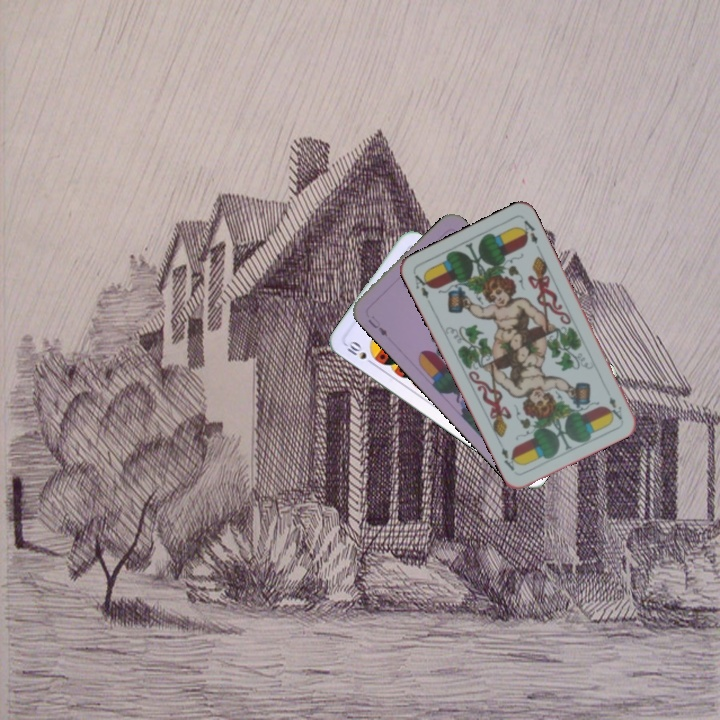EA: (411, 271, 433, 301), (605, 393, 625, 423)
EU: (364, 311, 390, 339)
S10: (343, 337, 377, 368)
